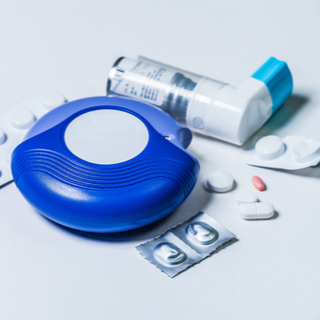Medicine: (7, 84, 200, 252), (108, 51, 305, 141)
